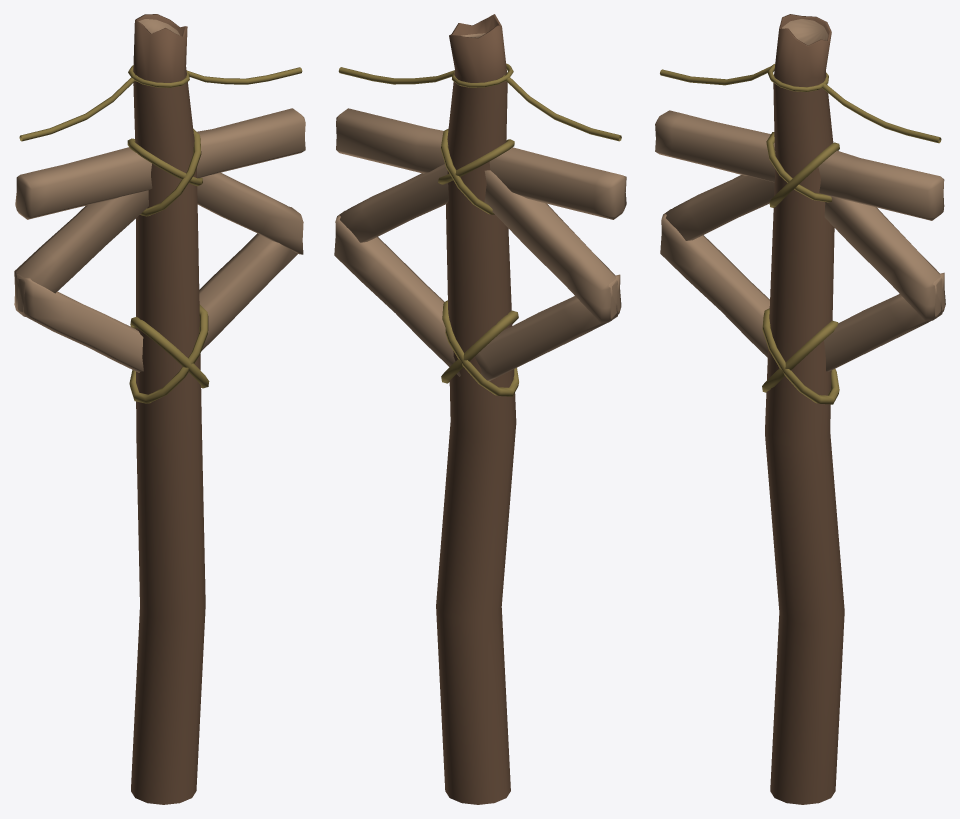
File: waterfront2.fbx
The picture shows the model from 3 angles, left to right: view 1: azimuth 30°, elevation 25°; view 2: azimuth 150°, elevation 25°; view 3: azimuth 330°, elevation 25°; orthographic projection.
Visible parts, largest first — view 1: Cube; view 2: Cube; view 3: Cube.
Part boxes in pixels (bbox=[...]): Cube: bbox=[14, 14, 305, 804]; Cube: bbox=[334, 14, 626, 804]; Cube: bbox=[655, 14, 945, 804].
Bounding box in the file's own units: 1.02 × 2.67 × 0.2647.
